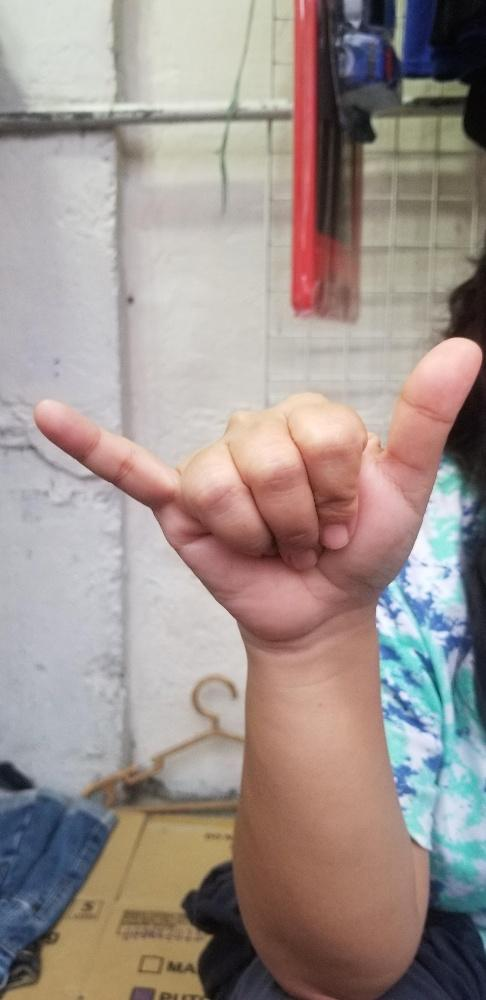y: (31, 334, 485, 638)
